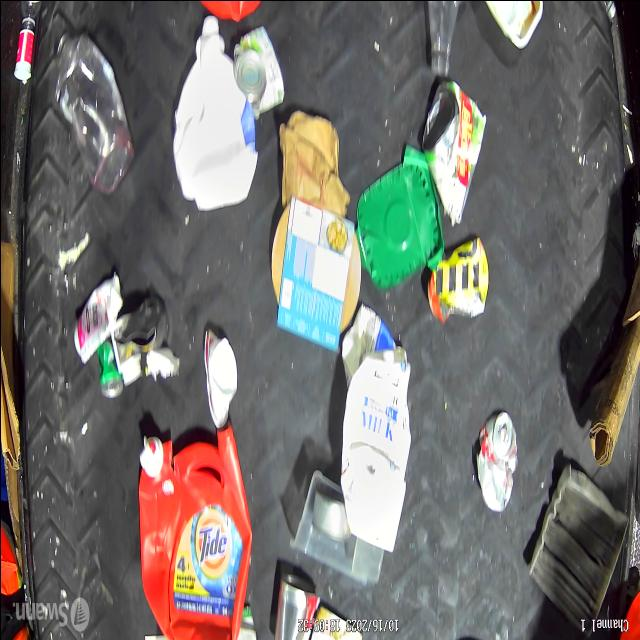can: (422, 82, 486, 227), (427, 244, 490, 316), (474, 414, 516, 510)
milk_jug: (173, 19, 254, 209), (347, 368, 407, 552)
non_white_jug: (143, 426, 253, 640)
plastic_bottle: (55, 36, 129, 190)
